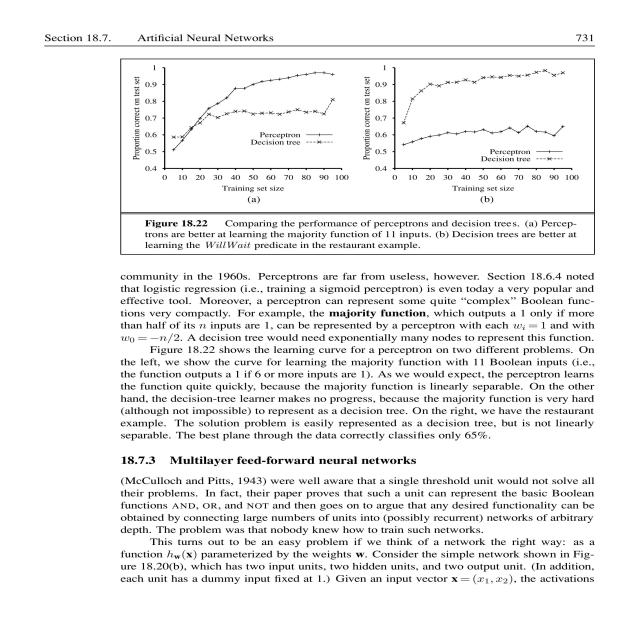diagram: (100, 61, 640, 257)
